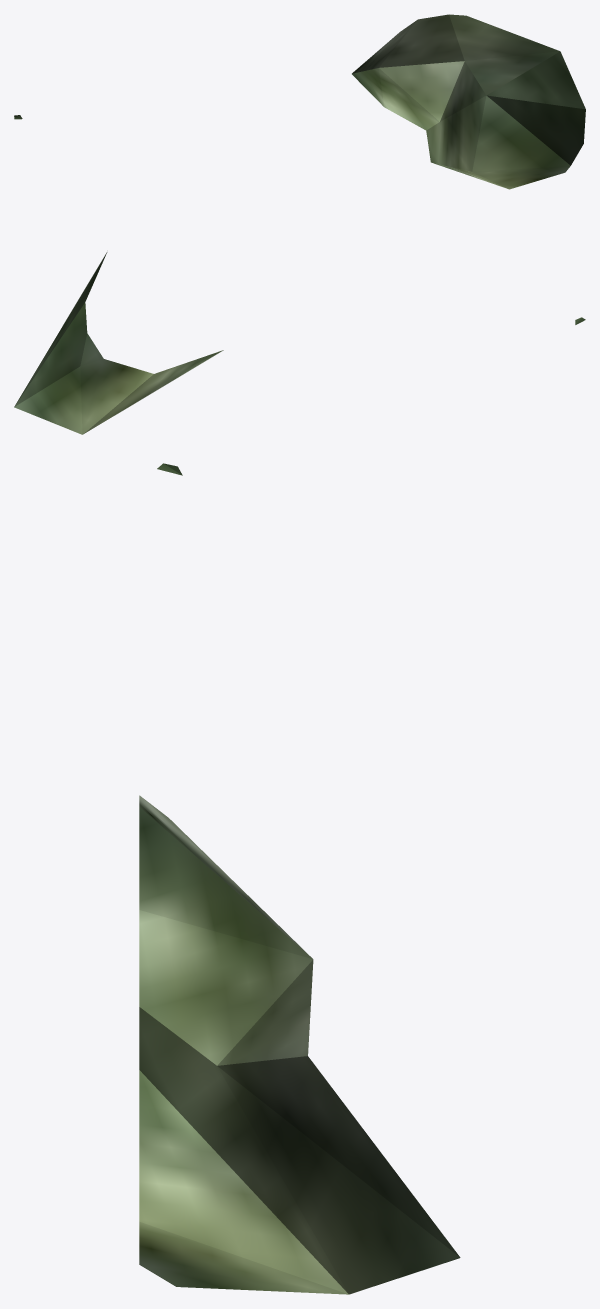
3 views of the same model, one above another, from view 1: azimuth 30°, elevation 25°; view 2: azimuth 150°, elevation 25°; view 3: azimuth 270°, elevation 25° (orthographic). The views are drawn at different scales.
Size of the model in its own units: 34.57 by 12.56 by 9.5.
Materials: 1 (1 with a texture image).
